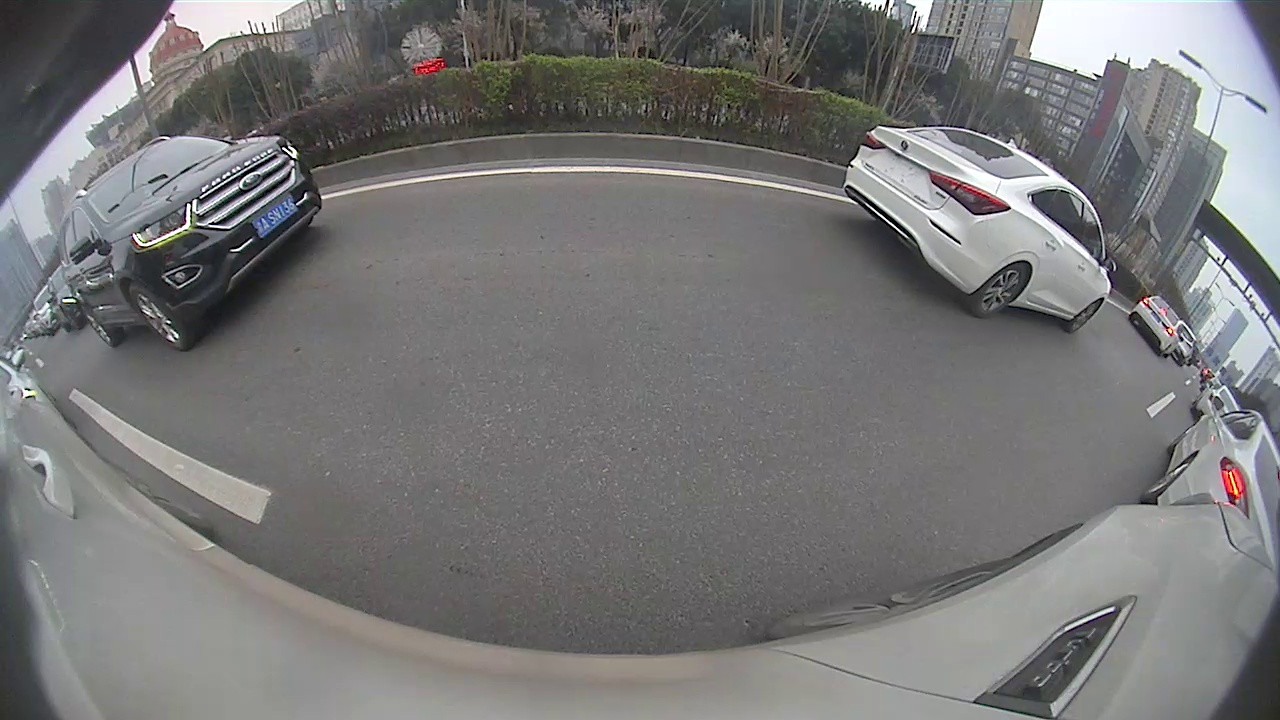car: (841, 124, 1118, 335), (57, 133, 323, 349), (1139, 397, 1278, 570), (1127, 293, 1184, 358)
front: (119, 283, 186, 345), (1066, 301, 1103, 334)
rear: (979, 265, 1030, 317)
